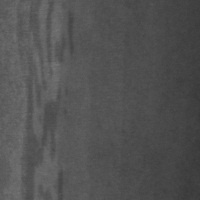inclusion: (19, 2, 76, 199)
